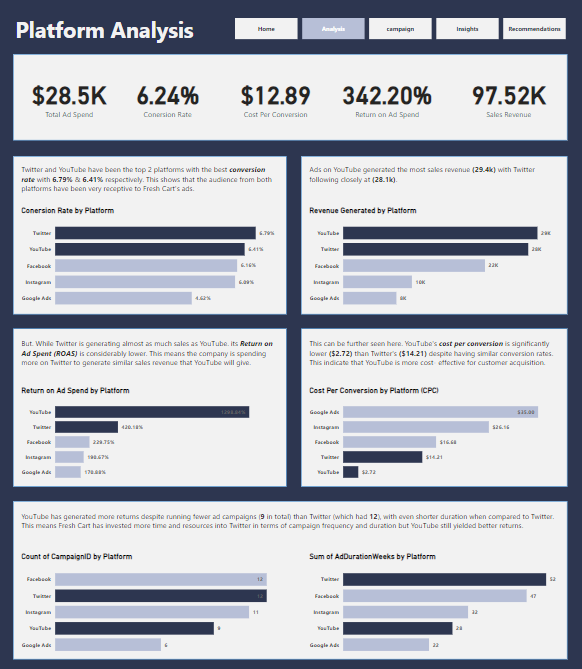

The dashboard page shown, as its layout file describes it:
{"tool":"powerbi","page":{"name":"Analysis","canvas":[1300,1500],"ordinal":1},"visuals":[{"type":"textbox","box":[32,32,448,96],"z":0},{"type":"shape","box":[32,128,1232,192],"z":1000},{"type":"shape","box":[672,352,592,352],"z":2000},{"type":"shape","box":[672,736,592,352],"z":3000},{"type":"shape","box":[32,1120,1232,352],"z":4000},{"type":"shape","box":[32,352,608,352],"z":5000},{"type":"shape","box":[32,736,608,352],"z":6000},{"type":"card","fields":{"Values":["Sum(ad_campaign_data.Cost)"]},"box":[32,128,249,192],"z":7000},{"type":"card","fields":{"Values":["DaxMeasures.Conersion Rate"]},"box":[256,128,240,192],"z":8000},{"type":"card","fields":{"Values":["DaxMeasures.Cost Per Conversion"]},"box":[496,128,240,192],"z":9000},{"type":"card","fields":{"Values":["DaxMeasures.Return on Ad Spend"]},"box":[736,128,256,192],"z":10000},{"type":"card","fields":{"Values":["Sum(ad_campaign_data.ConversionValue)"]},"box":[1008,128,256,192],"z":11000},{"type":"barChart","fields":{"Y":["DaxMeasures.Conersion Rate"],"Category":["ad_campaign_data.Platform"]},"box":[48,464,576,240],"z":12000},{"type":"barChart","title":"Revenue Generated by Platform","fields":{"Y":["Sum(ad_campaign_data.ConversionValue)"],"Category":["ad_campaign_data.Platform"]},"box":[688,464,560,240],"z":13000},{"type":"textbox","box":[688,368,560,80],"z":14000},{"type":"textbox","box":[48,368,576,80],"z":15000},{"type":"barChart","fields":{"Y":["DaxMeasures.Return on Ad Spend"],"Category":["ad_campaign_data.Platform"]},"box":[48,864,576,224],"z":16000},{"type":"textbox","box":[48,752,576,96],"z":17000},{"type":"barChart","title":"Cost Per Conversion by Platform (CPC)","fields":{"Y":["DaxMeasures.Cost Per Conversion"],"Category":["ad_campaign_data.Platform"]},"box":[688,864,560,224],"z":18000},{"type":"textbox","box":[688,752,560,96],"z":19000},{"type":"barChart","fields":{"Y":["CountNonNull(ad_campaign_data.CampaignID)"],"Category":["ad_campaign_data.Platform"]},"box":[48,1232,576,240],"z":20000},{"type":"barChart","fields":{"Category":["ad_campaign_data.Platform"],"Y":["Sum(ad_campaign_data.AdDurationWeeks)"]},"box":[688,1232,560,240],"z":21000},{"type":"textbox","box":[48,1136,1200,80],"z":22000},{"type":"pageNavigator","box":[528,48,736,48],"z":23000}]}

Visuals, with their boxes in screenshot pixels (x1, y1, x2, y2), scaled from the page's 1300x1500 canvas onto the 582x669 screenshot:
textbox: bbox=(14, 14, 215, 57)
shape: bbox=(14, 57, 566, 143)
shape: bbox=(301, 157, 566, 314)
shape: bbox=(301, 328, 566, 485)
shape: bbox=(14, 500, 566, 657)
shape: bbox=(14, 157, 287, 314)
shape: bbox=(14, 328, 287, 485)
card - Sum(ad_campaign_data.Cost): bbox=(14, 57, 126, 143)
card - DaxMeasures.Conersion Rate: bbox=(115, 57, 222, 143)
card - DaxMeasures.Cost Per Conversion: bbox=(222, 57, 330, 143)
card - DaxMeasures.Return on Ad Spend: bbox=(330, 57, 444, 143)
card - Sum(ad_campaign_data.ConversionValue): bbox=(451, 57, 566, 143)
barChart - DaxMeasures.Conersion Rate x ad_campaign_data.Platform: bbox=(21, 207, 279, 314)
"Revenue Generated by Platform" barChart: bbox=(308, 207, 559, 314)
textbox: bbox=(308, 164, 559, 200)
textbox: bbox=(21, 164, 279, 200)
barChart - DaxMeasures.Return on Ad Spend x ad_campaign_data.Platform: bbox=(21, 385, 279, 485)
textbox: bbox=(21, 335, 279, 378)
"Cost Per Conversion by Platform (CPC)" barChart: bbox=(308, 385, 559, 485)
textbox: bbox=(308, 335, 559, 378)
barChart - CountNonNull(ad_campaign_data.CampaignID) x ad_campaign_data.Platform: bbox=(21, 549, 279, 657)
barChart - ad_campaign_data.Platform x Sum(ad_campaign_data.AdDurationWeeks): bbox=(308, 549, 559, 657)
textbox: bbox=(21, 507, 559, 542)
pageNavigator: bbox=(236, 21, 566, 43)
